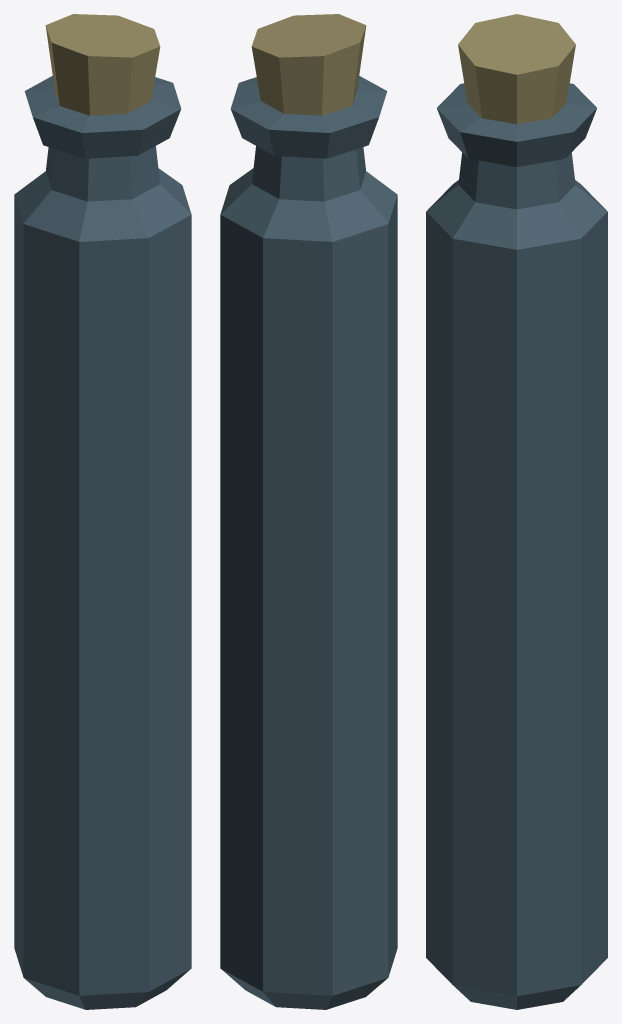
File: Potion_2.fbx
3 renders of one model, left to right at view 1: azimuth 30°, elevation 25°; view 2: azimuth 150°, elevation 25°; view 3: azimuth 270°, elevation 25°, orthographic.
Visible parts, largest first — view 1: Potion_2; view 2: Potion_2; view 3: Potion_2.
Part boxes in pixels (x1,y1,x2,y2): Potion_2: [14, 14, 191, 1009]; Potion_2: [220, 14, 397, 1009]; Potion_2: [426, 14, 607, 1009].
Size of the model in its own units: 3.12 by 17.86 by 3.12.
